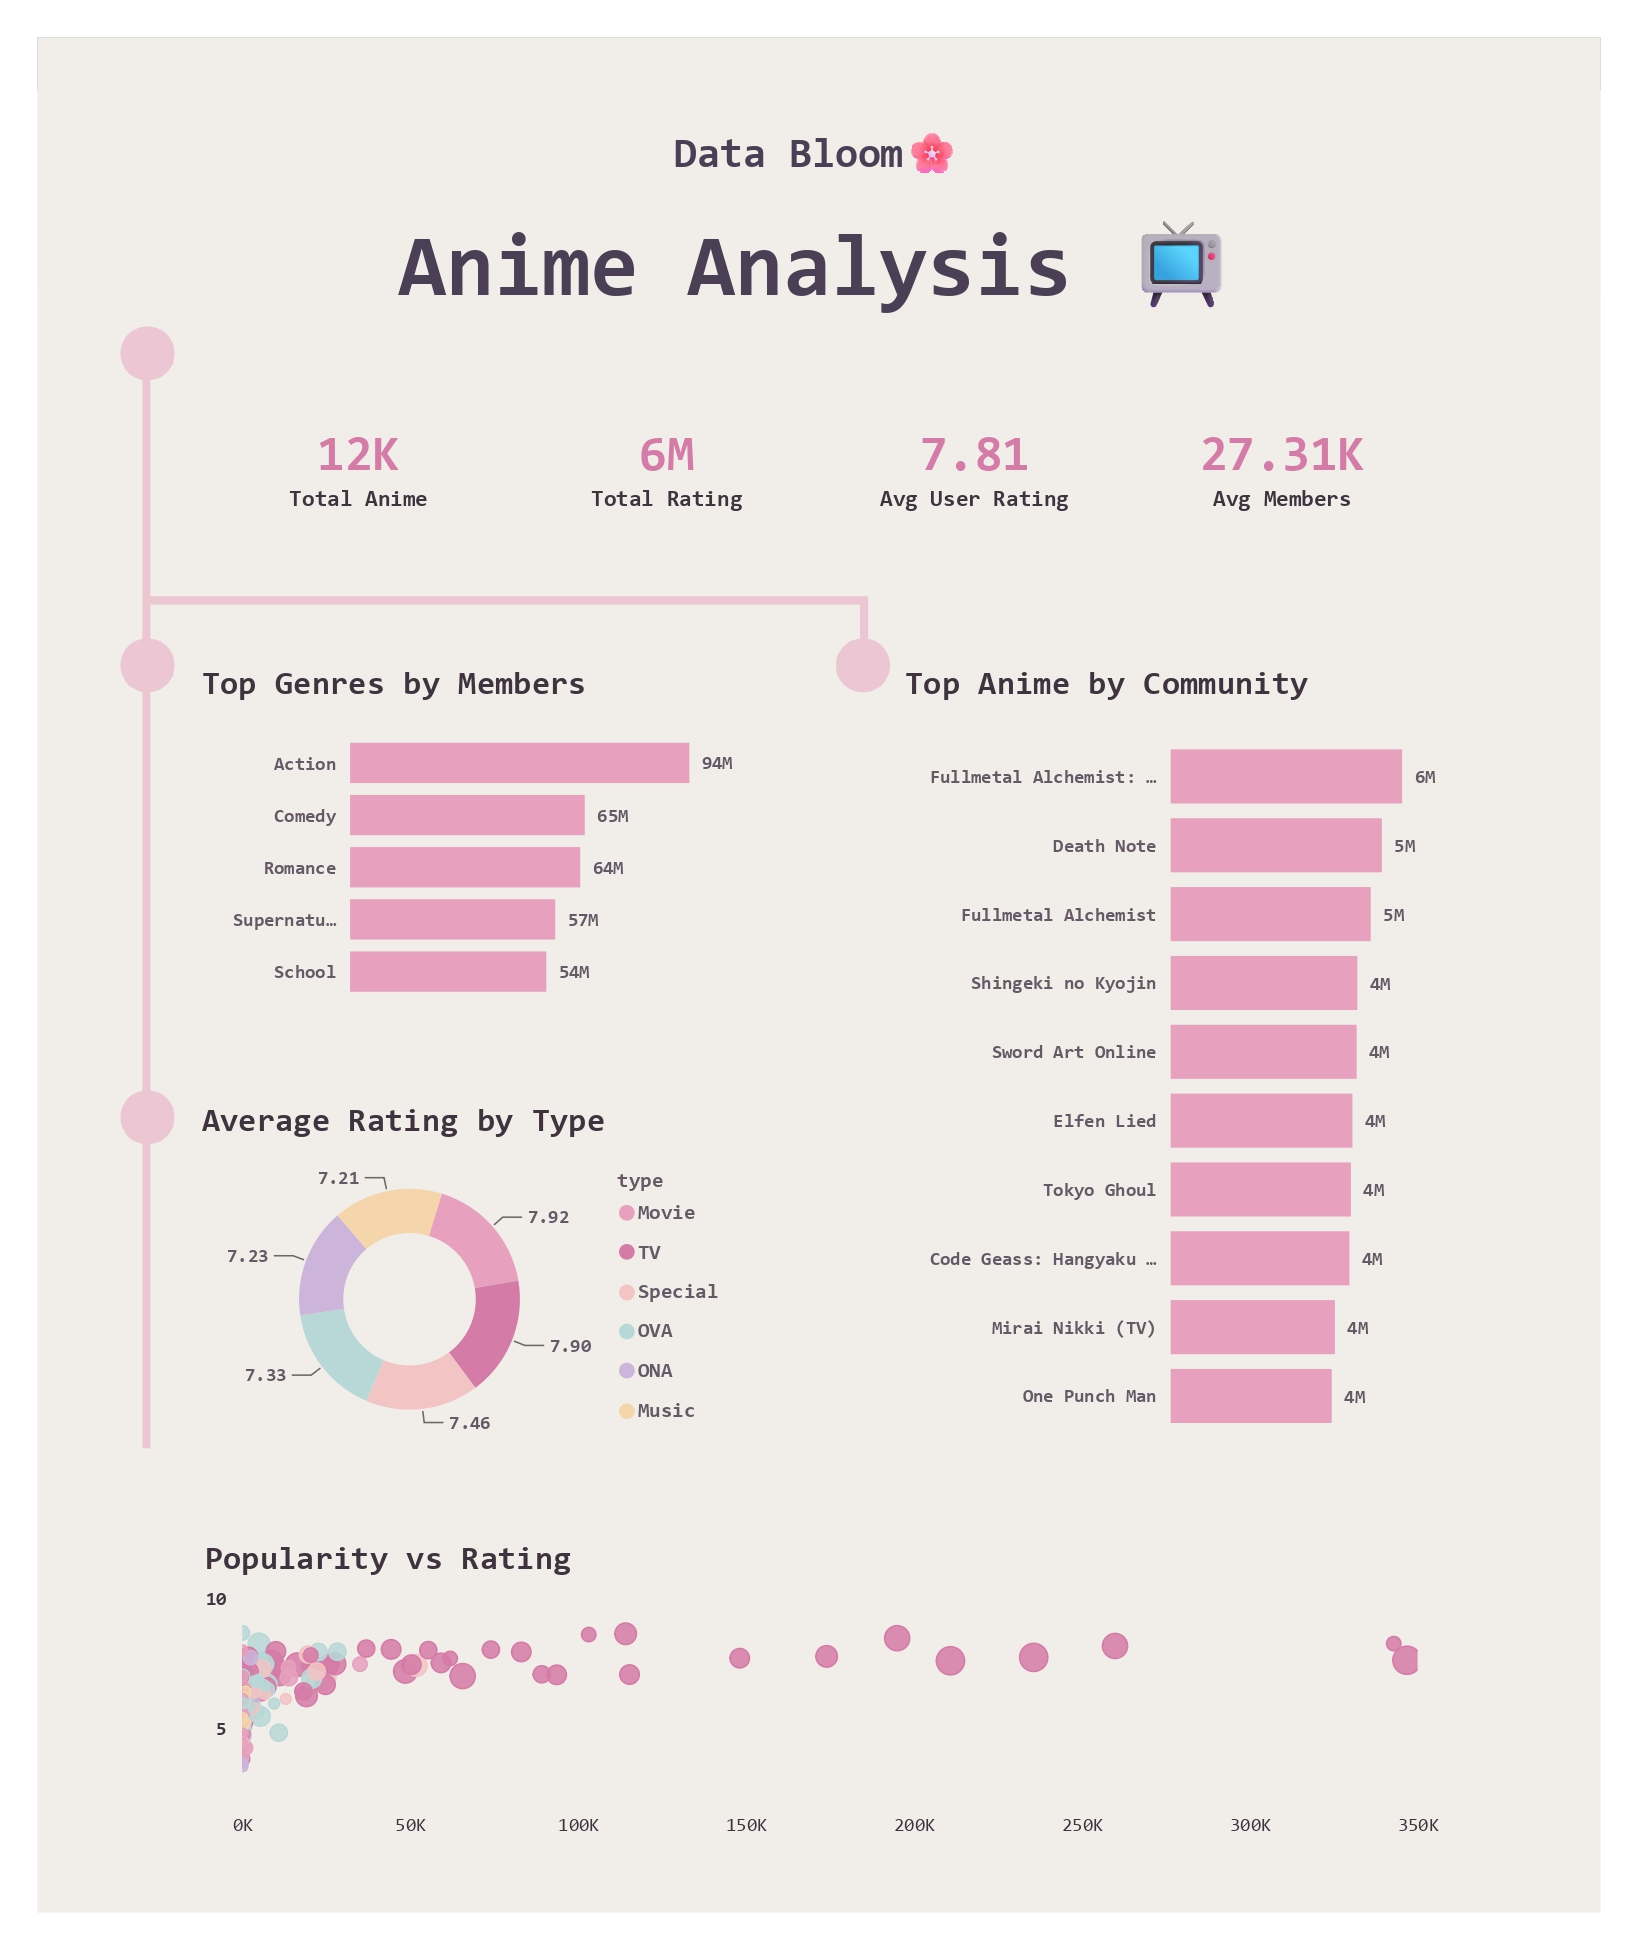

The dashboard page shown, as its layout file describes it:
{"tool":"powerbi","page":{"name":"Page 1","canvas":[1000,1200],"ordinal":0},"visuals":[{"type":"cardVisual","fields":{"Data":["Measure.Total Anime","Measure.Total Rating","Measure.Avg User Rating","Measure.Avg Members"]},"box":[102.3,175.9,799.6,200.4],"z":0},{"type":"clusteredBarChart","title":"Top Genres by Members","fields":{"Category":["anime.genre"],"Y":["Sum(anime.members)"]},"box":[100,400,350,230],"z":1000},{"type":"scatterChart","title":"Popularity vs Rating","fields":{"Y":["Avg(anime.rating)"],"X":["anime.members"],"Size":["CountNonNull(anime.episodes)"],"Category":["anime.name"],"Series":["anime.type"]},"box":[102,960,800,200],"z":2000},{"type":"donutChart","title":"Average Rating by Type","fields":{"Category":["anime.type"],"Y":["Measure.Avg User Rating"]},"box":[100,680,350,230],"z":3000},{"type":"barChart","title":"Top Anime by Community","fields":{"Category":["anime.name"],"Y":["Sum(anime.members)"]},"box":[550,400,350,510],"z":4000},{"type":"textbox","box":[400.8,49.1,196.3,51.1],"z":5000},{"type":"textbox","box":[100.2,100.2,799.6,175.9],"z":6000},{"type":"actionButton","box":[40.4,100.2,525.2,876.8],"z":6001}]}

Visuals, with their boxes on the page's 1000x1200 design canvas (x1, y1, x2, y2). These are canvas units, not pixel positions in the 1638x1950 screenshot, which may show the page scaled, cropped or inside an application window:
cardVisual - Measure.Total Anime x Measure.Total Rating: 102,176,902,376
"Top Genres by Members" clusteredBarChart: 100,400,450,630
"Popularity vs Rating" scatterChart: 102,960,902,1160
"Average Rating by Type" donutChart: 100,680,450,910
"Top Anime by Community" barChart: 550,400,900,910
textbox: 401,49,597,100
textbox: 100,100,900,276
actionButton: 40,100,566,977
